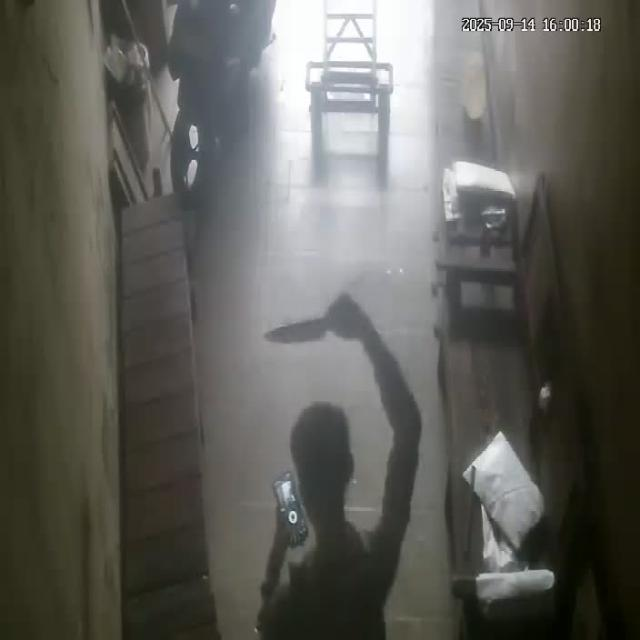senjata_tajam: (263, 314, 328, 344)
